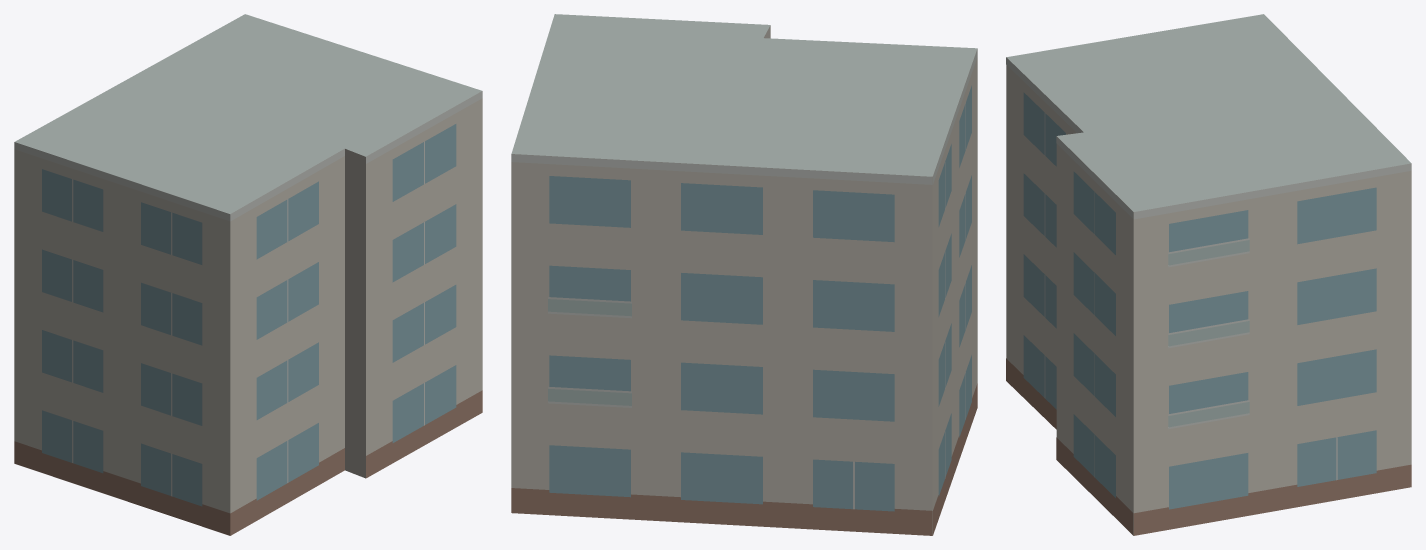
The model's file is survey-upis-32952994.glb.
3 views of the same model, side by side, from view 1: azimuth 30°, elevation 25°; view 2: azimuth 150°, elevation 25°; view 3: azimuth 270°, elevation 25° (orthographic). The views are drawn at different scales.
Parts seen in each view (by area): view 1: survey-upis-32952994.tmp; view 2: survey-upis-32952994.tmp; view 3: survey-upis-32952994.tmp.
Part boxes in pixels (x1,y1,x2,y2): survey-upis-32952994.tmp: (14,14,482,535); survey-upis-32952994.tmp: (511,14,977,535); survey-upis-32952994.tmp: (1006,14,1411,535).
Size of the model in its own units: 14.11 by 10.74 by 12.2.
